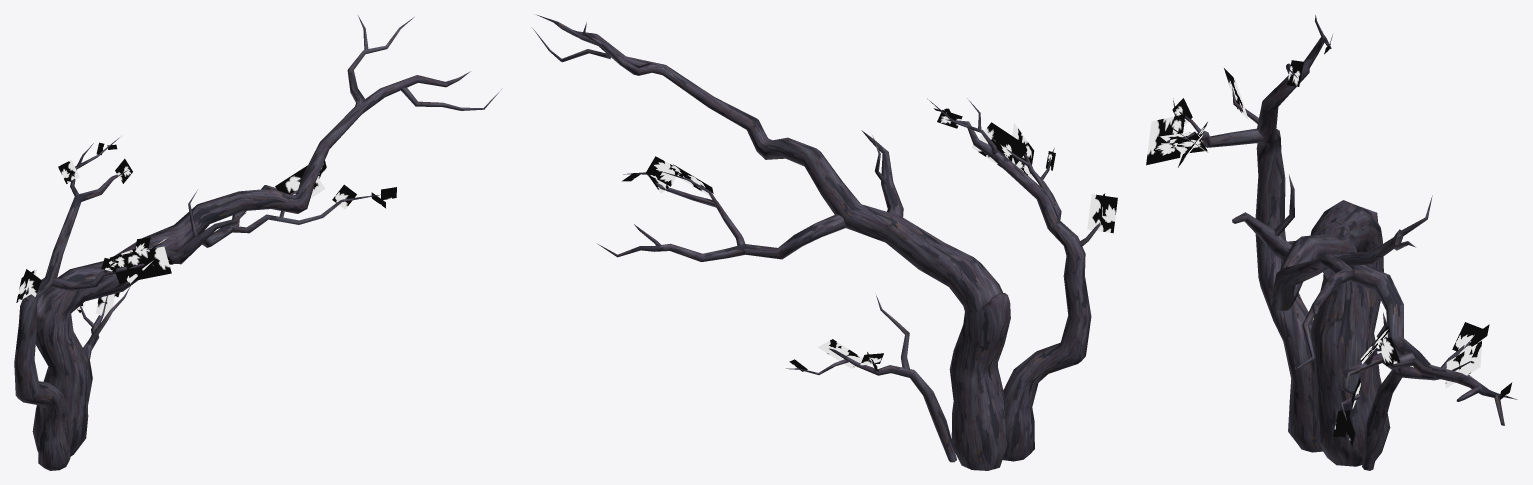
Rendered from P_TreeWindsweptB03.obj.
The picture shows the model from 3 angles, left to right: view 1: azimuth 30°, elevation 25°; view 2: azimuth 150°, elevation 25°; view 3: azimuth 270°, elevation 25°; orthographic projection. The views are drawn at different scales.
Bounding box in the file's own units: 18.16 × 11.66 × 7.91.
